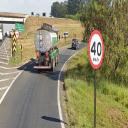speed_limit_40: (88, 30, 104, 70)
